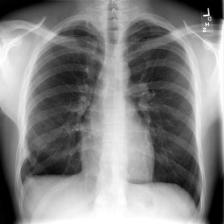normal: (16, 14, 206, 211)
